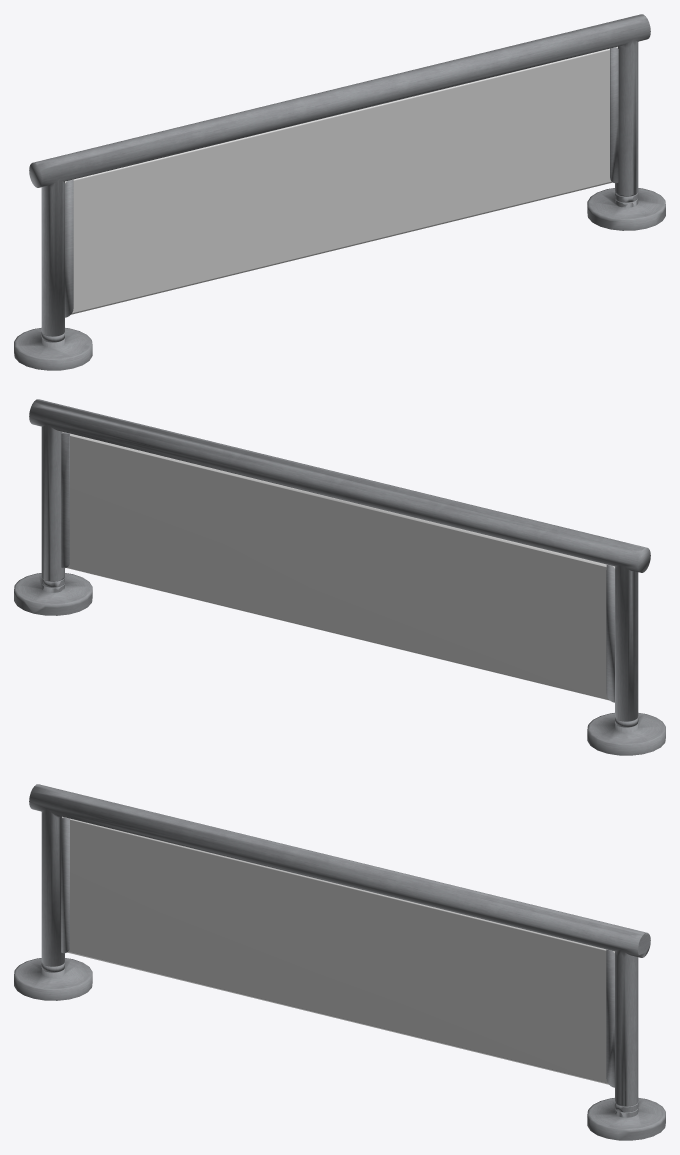
The model's file is d69acfaa-14da-4513-8026-3887bfd3125b.glb.
3 renders of one model, top to bottom at view 1: azimuth 30°, elevation 25°; view 2: azimuth 150°, elevation 25°; view 3: azimuth 330°, elevation 25°, orthographic.
Parts seen in each view (by area): view 1: miomare_bathroom_shelf_glass, miomare_bathroom_shelf_base; view 2: miomare_bathroom_shelf_glass, miomare_bathroom_shelf_base; view 3: miomare_bathroom_shelf_glass, miomare_bathroom_shelf_base.
Part boxes in pixels (box(x1,y1,x2,y2)): miomare_bathroom_shelf_glass: box(65, 46, 617, 314); miomare_bathroom_shelf_base: box(14, 14, 665, 370); miomare_bathroom_shelf_glass: box(62, 432, 614, 700); miomare_bathroom_shelf_base: box(14, 399, 665, 755); miomare_bathroom_shelf_glass: box(62, 816, 614, 1084); miomare_bathroom_shelf_base: box(14, 784, 665, 1140).
Size of the model in its own units: 0.5429 by 0.1575 by 0.0579.
2 materials, 1 textured.
